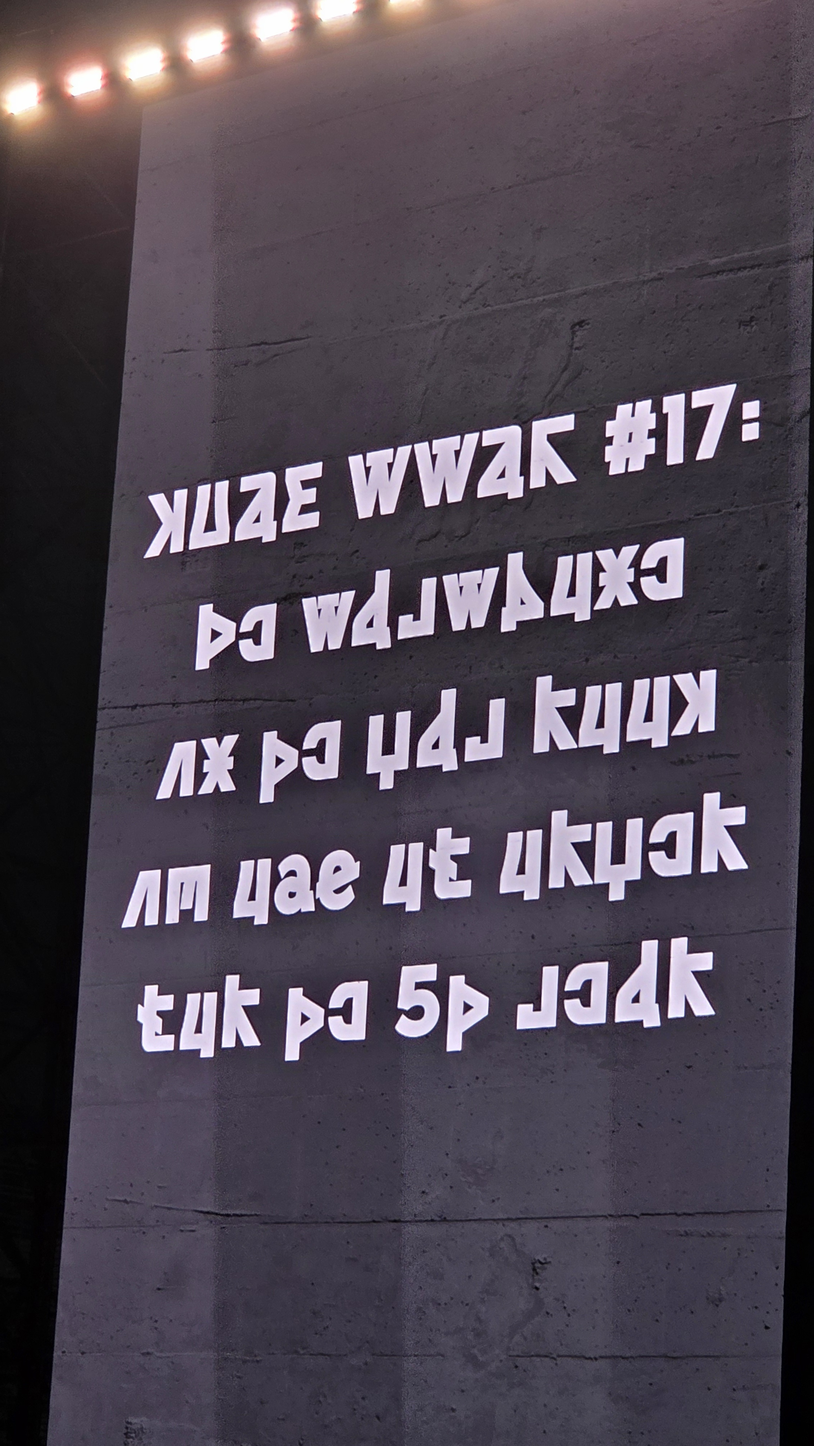1: (656, 387, 692, 472)
5: (389, 957, 446, 1044)
7: (684, 377, 743, 467)
A: (470, 419, 531, 506), (228, 466, 283, 549)
M: (137, 482, 194, 565)
O: (182, 474, 236, 556)
P: (407, 426, 486, 514), (341, 438, 419, 526)
R: (523, 407, 584, 496)
T: (275, 455, 329, 540)
a: (606, 932, 669, 1036), (409, 681, 466, 779), (344, 562, 399, 656)
d: (586, 810, 651, 909), (359, 703, 418, 797)
e: (642, 806, 700, 882), (634, 532, 690, 606), (558, 956, 614, 1030), (297, 715, 347, 786), (323, 975, 373, 1046), (234, 598, 282, 667)
f: (422, 821, 478, 905), (131, 979, 181, 1055)
h: (493, 544, 552, 639)
i: (150, 735, 202, 805), (116, 864, 167, 933)
m: (665, 663, 723, 742)
n: (587, 539, 645, 616), (193, 729, 244, 800)
o: (620, 669, 677, 754), (572, 676, 628, 760), (493, 823, 549, 907), (544, 545, 599, 628), (376, 836, 430, 917), (227, 852, 277, 931), (174, 987, 222, 1054)
p: (436, 561, 505, 637), (296, 585, 361, 658)
r: (693, 784, 756, 881), (660, 929, 723, 1026), (541, 802, 600, 896), (526, 668, 585, 760), (215, 968, 267, 1054)
s: (160, 859, 216, 930)
t: (310, 844, 365, 915)
th: (439, 968, 496, 1056), (253, 724, 305, 810), (189, 597, 242, 676), (280, 982, 330, 1054)
u: (269, 849, 320, 920)
y: (511, 960, 565, 1035), (459, 693, 511, 768), (392, 572, 442, 645)
